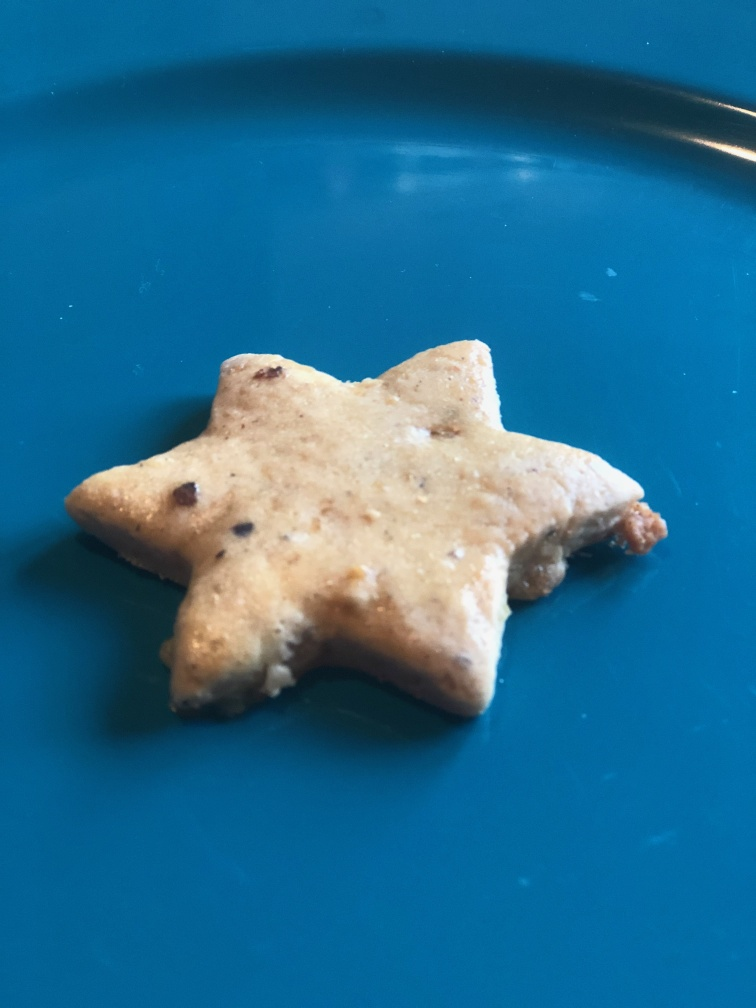star: (59, 334, 648, 734)
